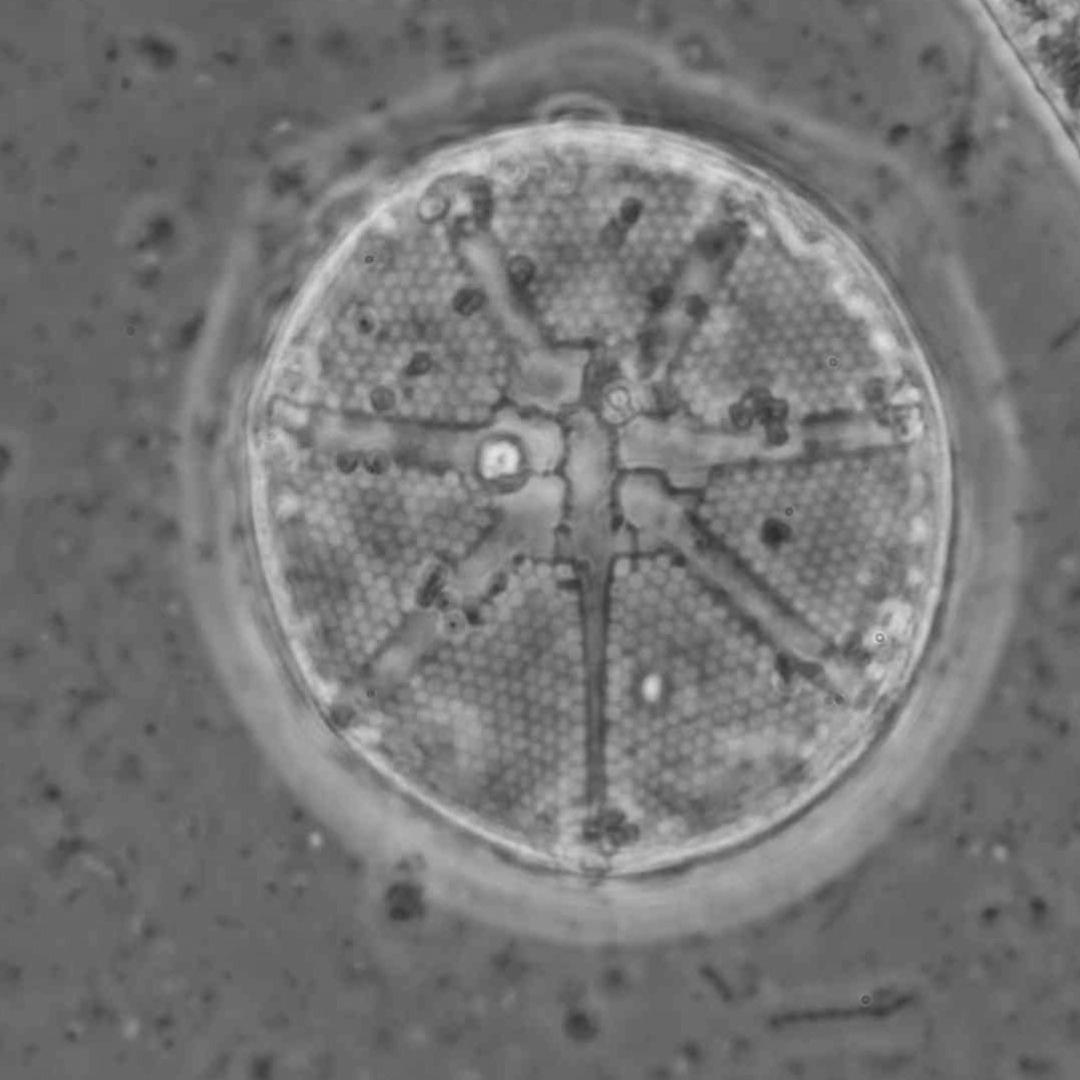asteromphalus_hyalinus: (242, 128, 956, 876)
